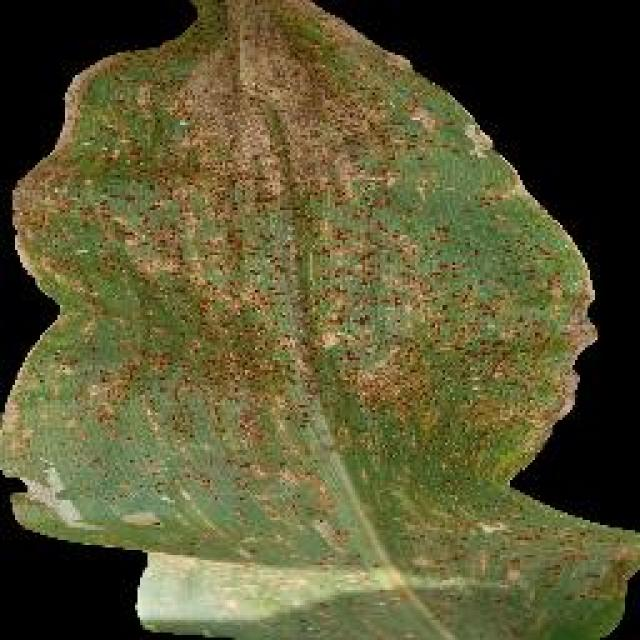Corn Common Rust: (97, 55, 628, 625)
